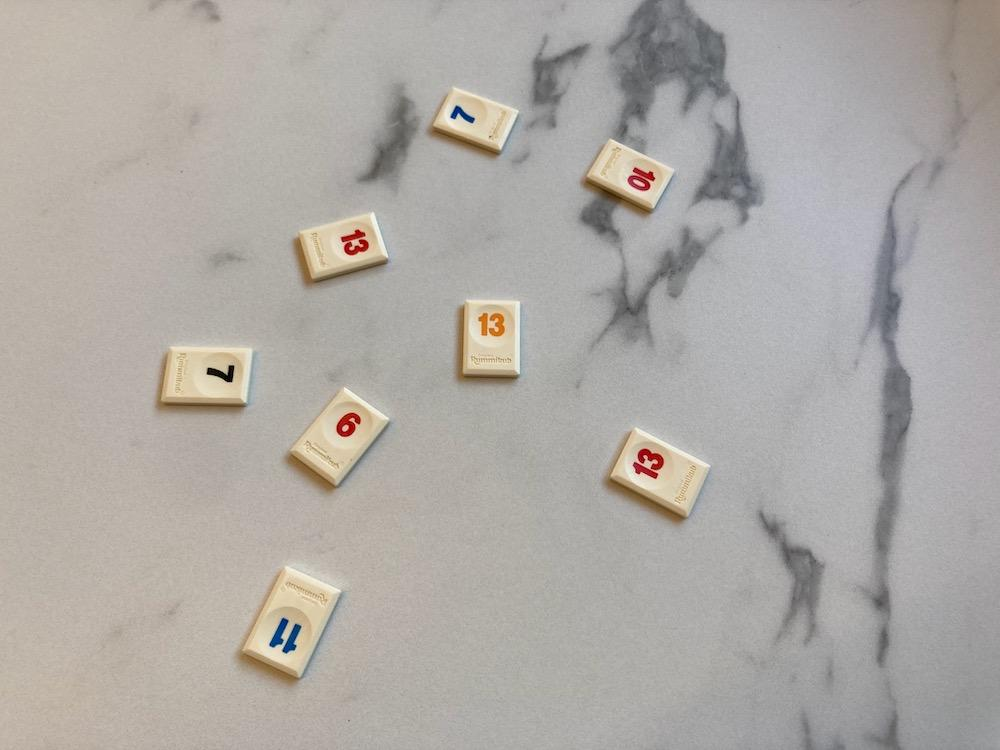black_7: (162, 348, 252, 406)
blue_11: (242, 566, 340, 678)
blue_7: (432, 88, 518, 152)
orange_13: (463, 302, 520, 377)
red_10: (588, 139, 674, 211)
red_13: (611, 428, 711, 518), (299, 213, 389, 281)
red_6: (291, 389, 389, 486)
